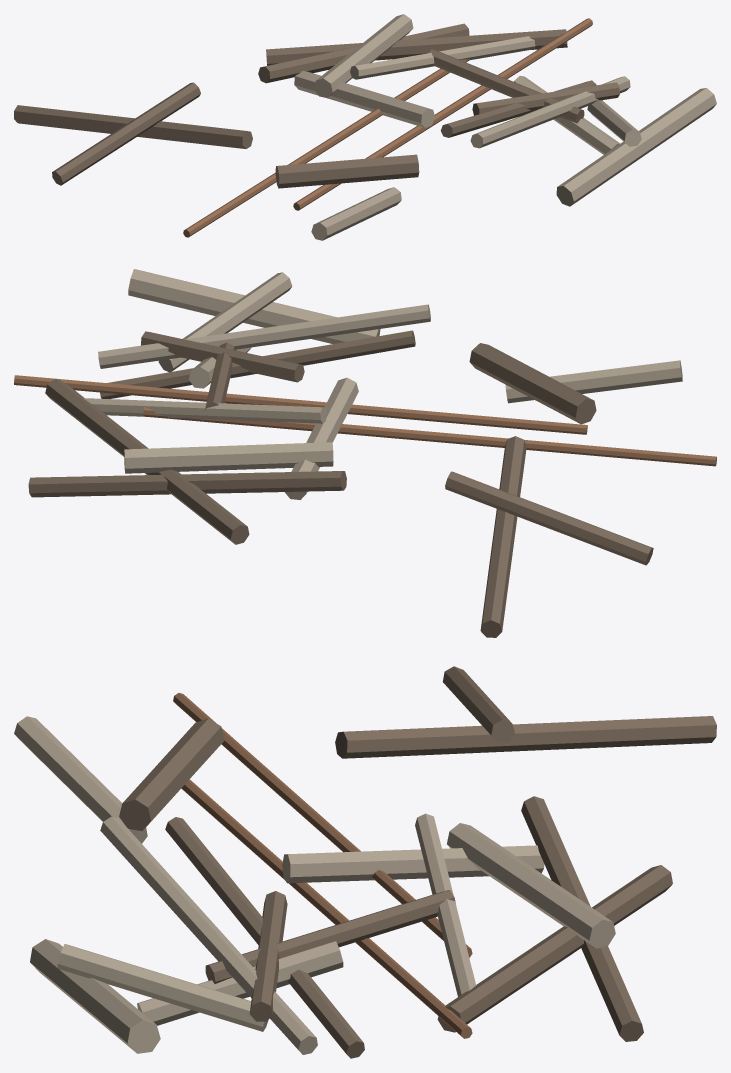
Rendered from TrestleDebris.glb.
The picture shows the model from 3 angles, top to bottom: view 1: azimuth 30°, elevation 25°; view 2: azimuth 150°, elevation 25°; view 3: azimuth 270°, elevation 25°; orthographic projection. The views are drawn at different scales.
Visible parts, largest first — view 1: Limb.075, Limb.065, Limb.072, Limb.070, Limb.076, Limb.081, Limb.068, Limb.080, Limb.073, Limb.069, Limb.079, Limb.071 (+6 smaller); view 2: Limb.071, Limb.079, Limb.081, Limb.069, Limb.080, Limb.075, Limb.070, Limb.076, Limb.065, Limb.073, Limb.072, Limb.078 (+6 smaller); view 3: Limb.065, Limb.070, Limb.079, Limb.069, Limb.068, Limb.066, Limb.071, Limb.078, Limb.075, Limb.072, Limb.081, Limb.077 (+6 smaller).
Boxes of the visible parts, x1,y1,x2,y2 form: Limb.075: [556, 88, 716, 206]; Limb.065: [14, 105, 252, 148]; Limb.072: [275, 154, 419, 188]; Limb.070: [266, 29, 567, 65]; Limb.076: [52, 82, 200, 185]; Limb.081: [293, 18, 592, 210]; Limb.068: [294, 70, 434, 127]; Limb.080: [183, 59, 469, 237]; Limb.073: [350, 36, 535, 79]; Limb.069: [314, 14, 413, 97]; Limb.079: [470, 76, 630, 148]; Limb.071: [258, 23, 469, 83]; Limb.071: [28, 471, 346, 497]; Limb.079: [98, 304, 430, 368]; Limb.081: [14, 375, 587, 434]; Limb.069: [124, 442, 333, 473]; Limb.080: [143, 407, 716, 466]; Limb.075: [128, 269, 380, 343]; Limb.070: [45, 378, 249, 544]; Limb.076: [445, 471, 653, 565]; Limb.065: [480, 436, 526, 637]; Limb.073: [83, 398, 326, 423]; Limb.072: [469, 343, 596, 424]; Limb.078: [100, 330, 415, 398]; Limb.065: [335, 716, 716, 758]; Limb.070: [437, 865, 672, 1032]; Limb.079: [100, 816, 317, 1054]; Limb.069: [447, 823, 615, 948]; Limb.068: [282, 845, 544, 883]; Limb.066: [57, 944, 268, 1031]; Limb.071: [521, 796, 643, 1041]; Limb.078: [165, 817, 364, 1058]; Limb.075: [30, 939, 160, 1053]; Limb.072: [119, 718, 224, 830]; Limb.081: [181, 779, 472, 1038]; Limb.077: [205, 890, 455, 983].
Bounding box in the file's own units: 7.21 × 0.919 × 5.37.
